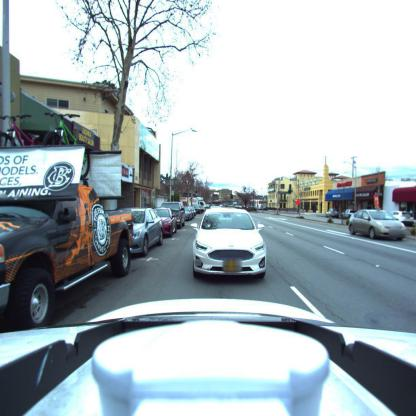car: (193, 208, 269, 280), (124, 209, 164, 257), (348, 209, 408, 240), (160, 202, 186, 230), (154, 208, 177, 236), (392, 212, 415, 228), (184, 205, 197, 219)
truck: (0, 136, 154, 322)
